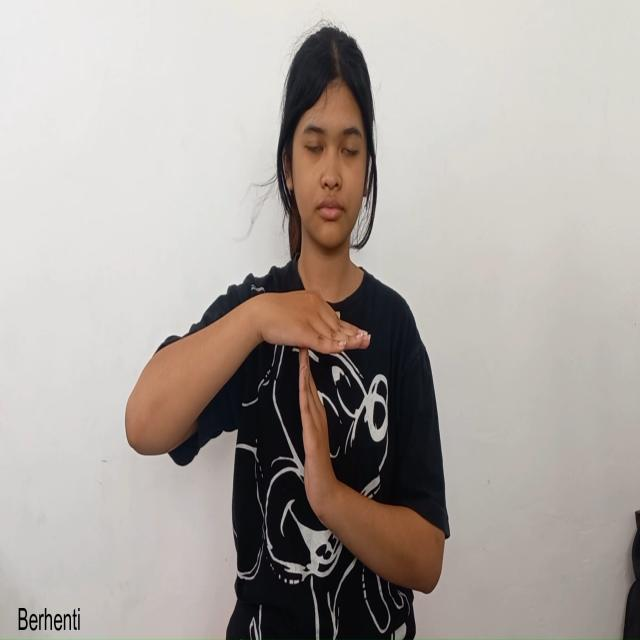Berhenti -BISINDO-: (235, 289, 409, 569)
